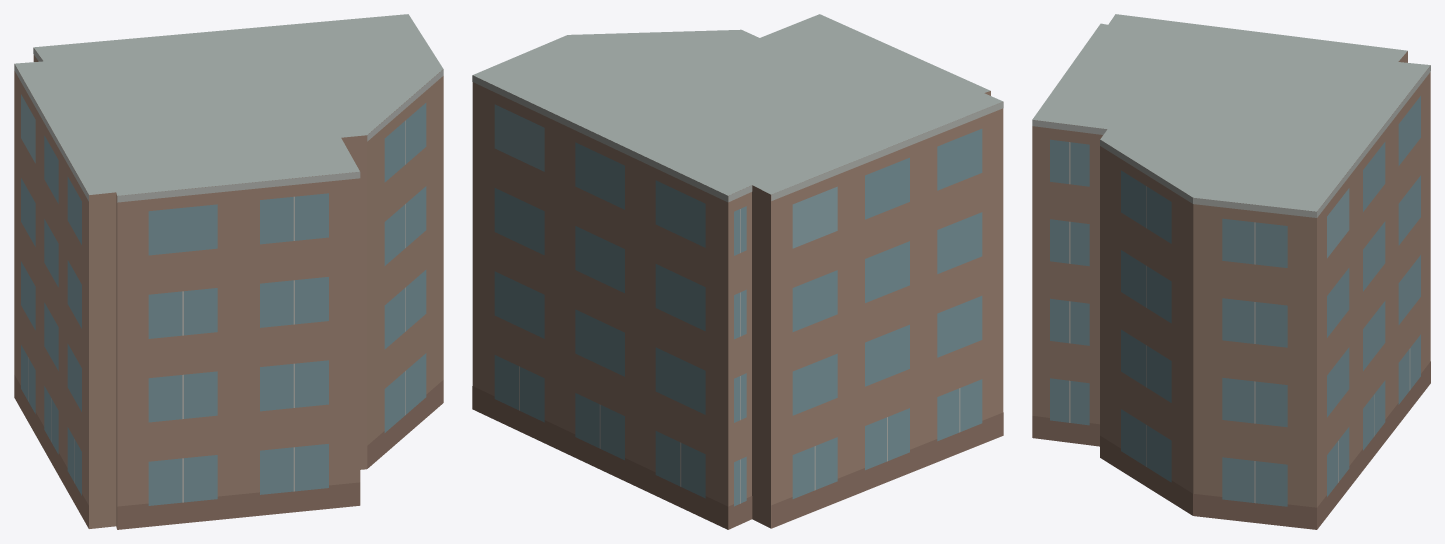
The model's file is survey-upis-32878549.glb.
3 views of the same model, side by side, from view 1: azimuth 30°, elevation 25°; view 2: azimuth 150°, elevation 25°; view 3: azimuth 270°, elevation 25° (orthographic). The views are drawn at different scales.
Visible parts, largest first — view 1: survey-upis-32878549.tmp; view 2: survey-upis-32878549.tmp; view 3: survey-upis-32878549.tmp.
Boxes of the visible parts, <box> form: survey-upis-32878549.tmp: <box>14,14,443,529</box>; survey-upis-32878549.tmp: <box>472,14,1003,529</box>; survey-upis-32878549.tmp: <box>1032,14,1430,529</box>.
Bounding box in the file's own units: 16.26 × 12.2 × 13.86.
